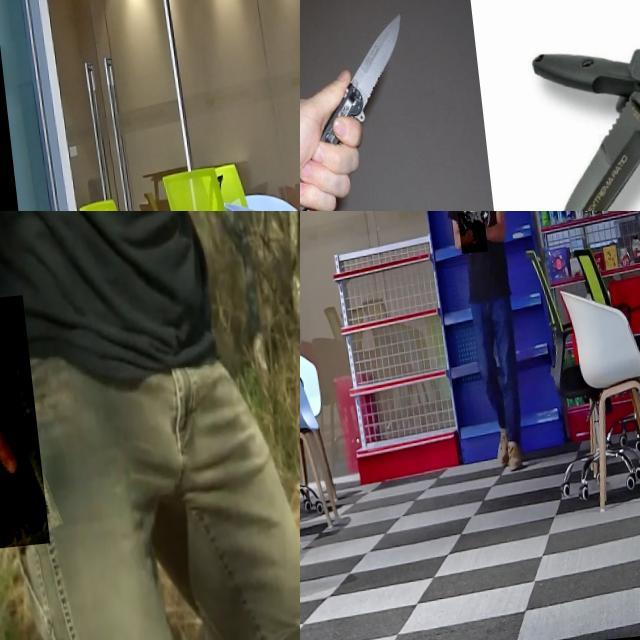-: (300, 10, 408, 189), (518, 99, 640, 211), (300, 0, 392, 85), (553, 0, 640, 85)
gun-knife-thesis - v11 Yolov5 augmented: (0, 300, 66, 558), (452, 220, 482, 264)
